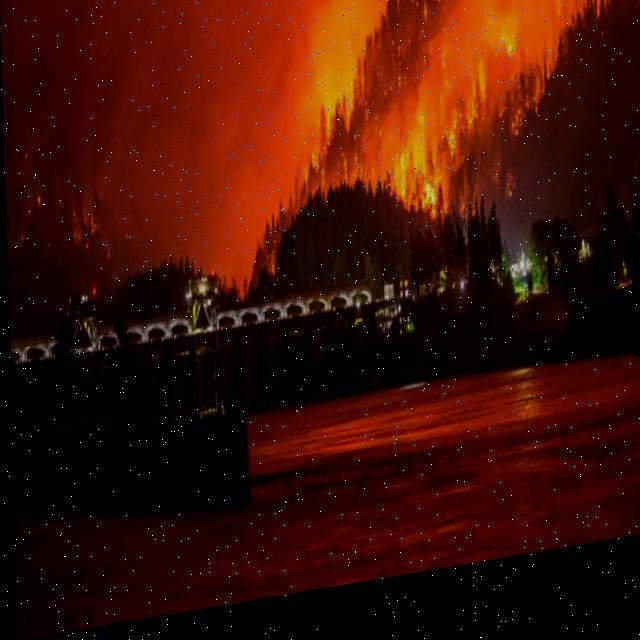Fire: (382, 0, 639, 238)
